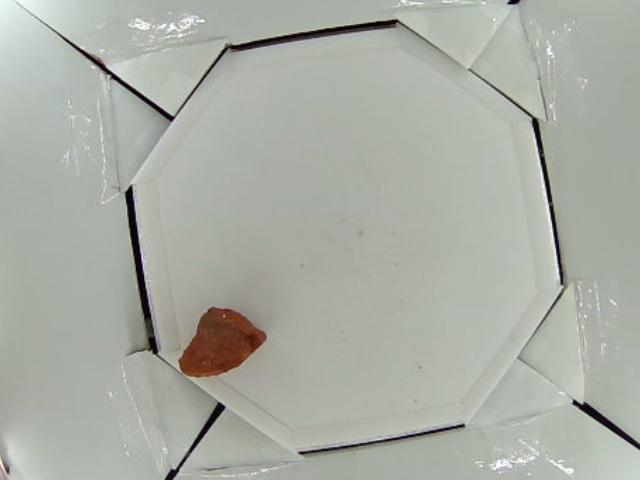Brisk: (176, 307, 268, 378)
